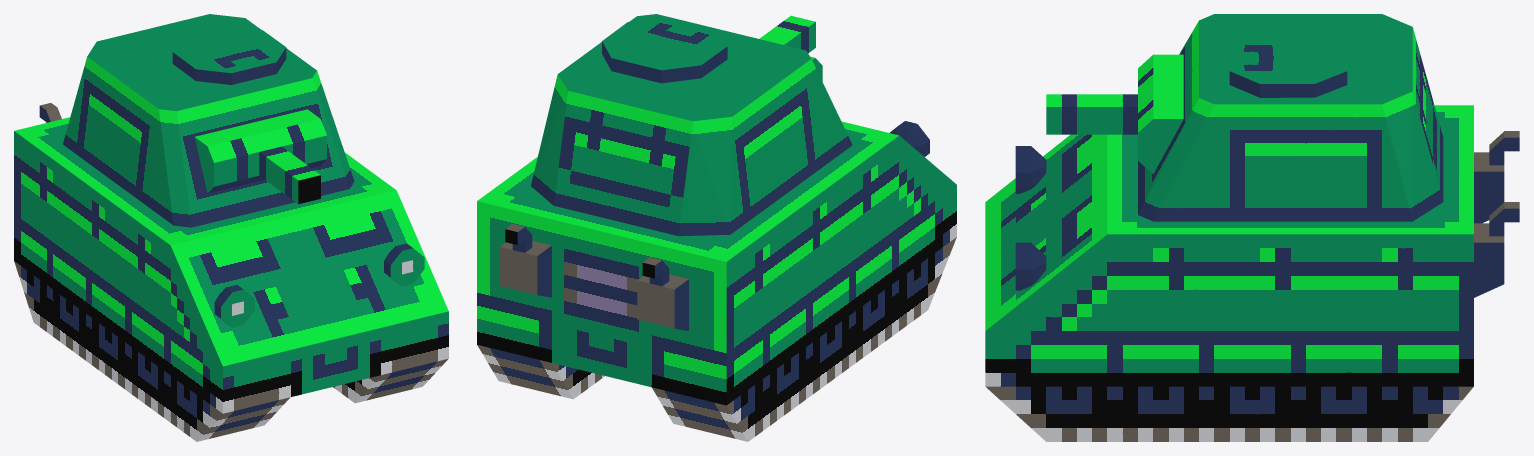
File: pixel_tank.glb
3 renders of one model, left to right at view 1: azimuth 30°, elevation 25°; view 2: azimuth 150°, elevation 25°; view 3: azimuth 270°, elevation 25°, orthographic. The views are drawn at different scales.
Parts seen in each view (by area): view 1: tank, tank turret; view 2: tank, tank turret; view 3: tank, tank turret.
Boxes of the visible parts, x1,y1,x2,y2 form: tank: (14,103,448,441); tank turret: (63,14,354,227); tank: (477,121,956,441); tank turret: (531,14,852,236); tank: (985,105,1519,441); tank turret: (1046,14,1443,221).
Bounding box in the file's own units: 125 × 150 × 219.
Materials: 1 (1 with a texture image).
